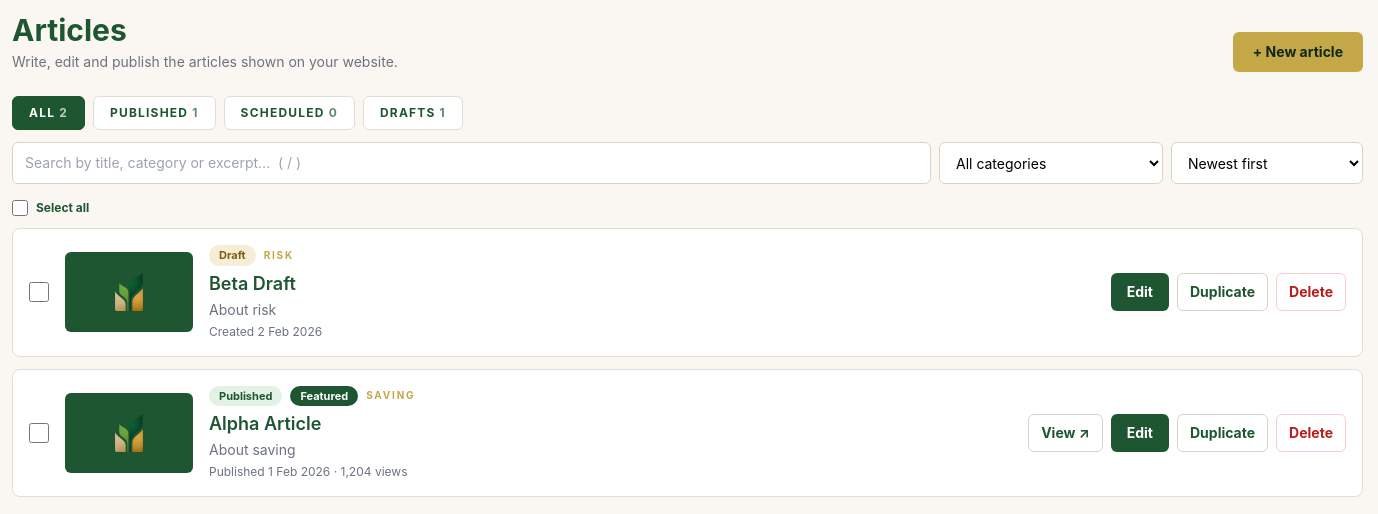
Test case: "Select all" only covers what the current filter shows
Click the button "Drafts 1" at (413, 113), box [363,96,463,130]
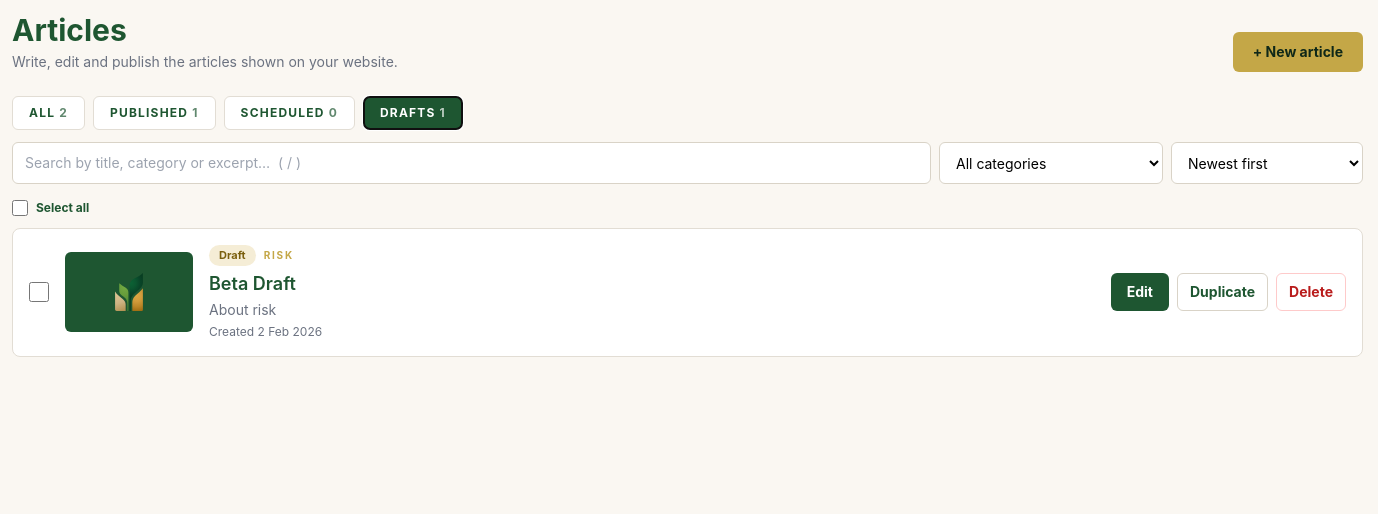
Click the checkbox labelled "Select all" at (20, 208), box [12,200,28,216]
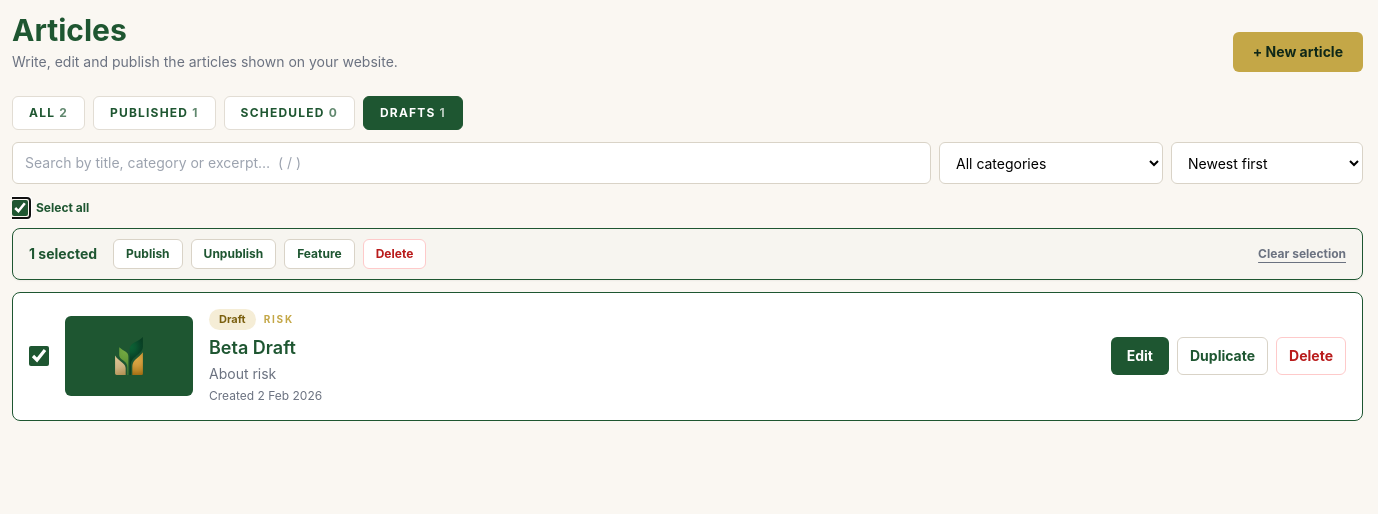
expect the text "1 selected" is shown: met, box [29,244,97,264]
